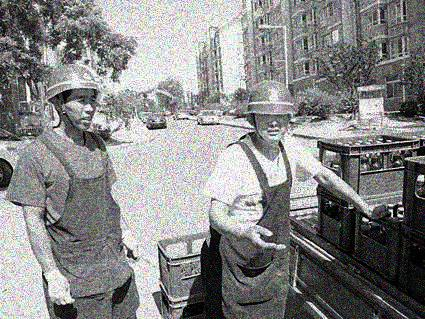helmet: (44, 63, 100, 134), (244, 78, 299, 143)
